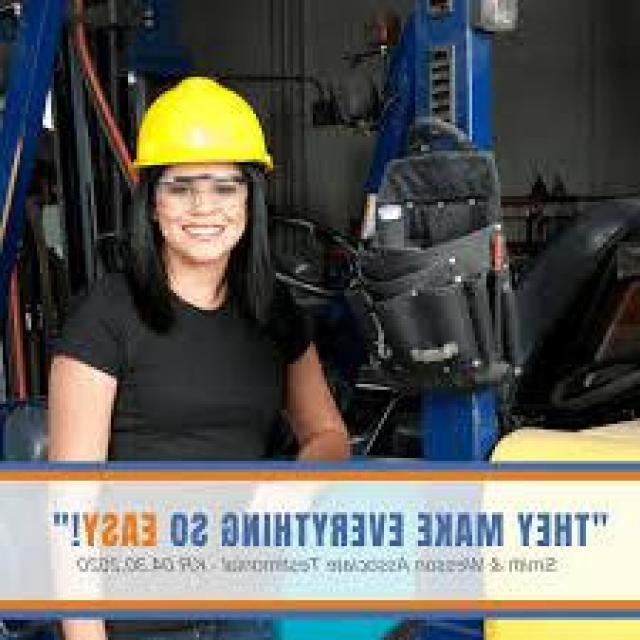Safety-Helmet: (114, 68, 290, 191)
